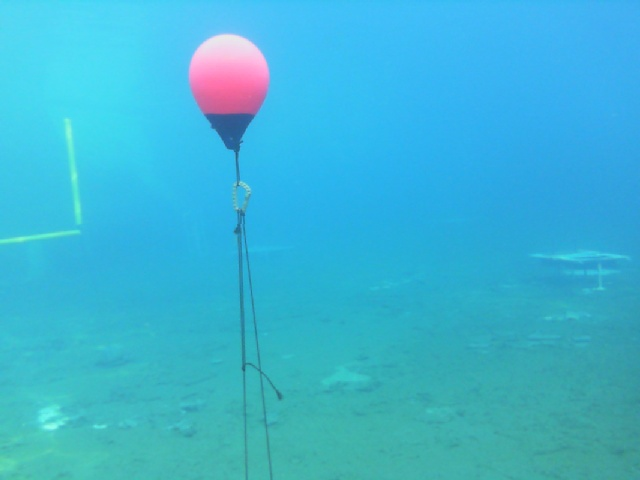buoy_red: (187, 32, 269, 149)
